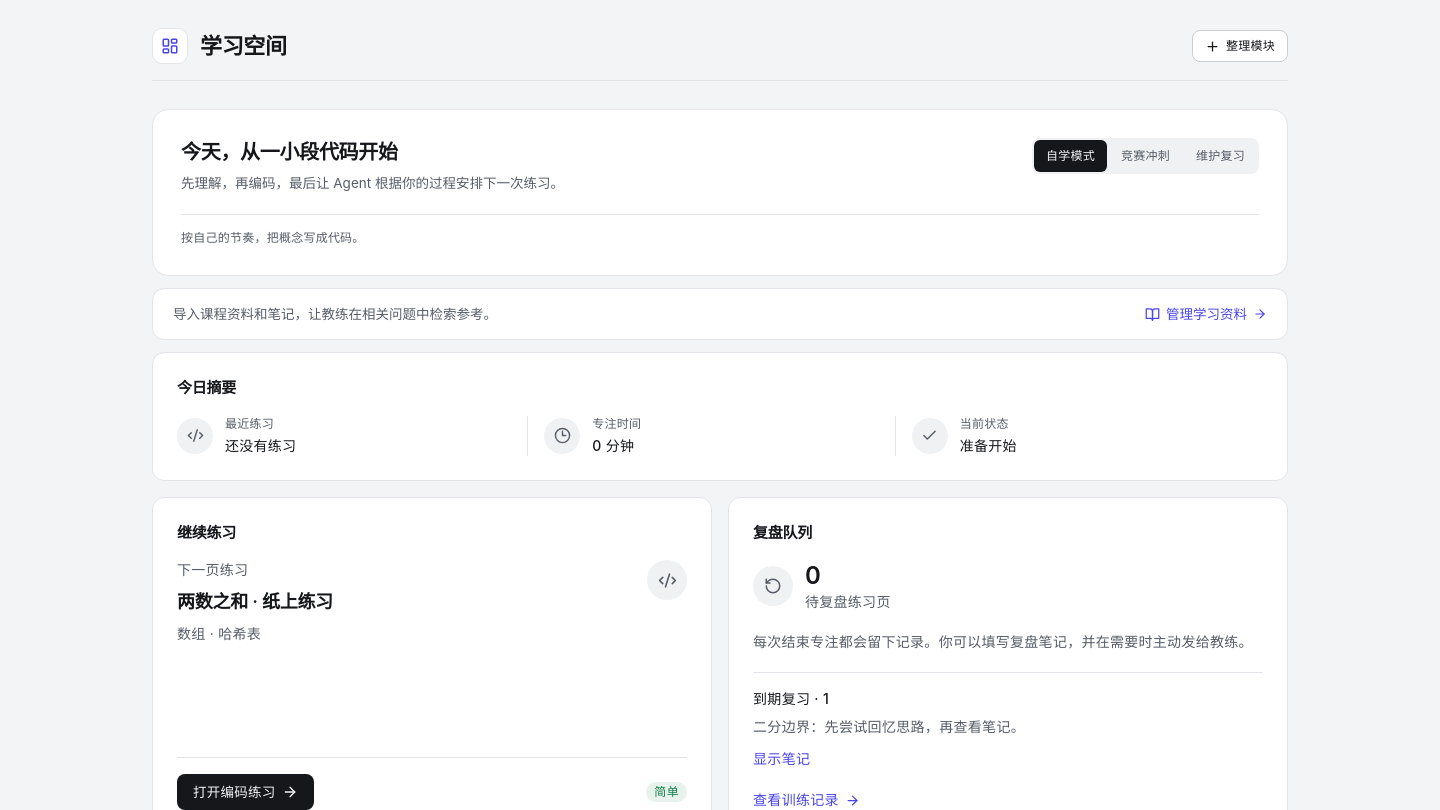
Test: rates a due review through the shared self-assessment labels
Click the button "显示笔记": (782, 759) [753,749,810,769]
(page scrolled)
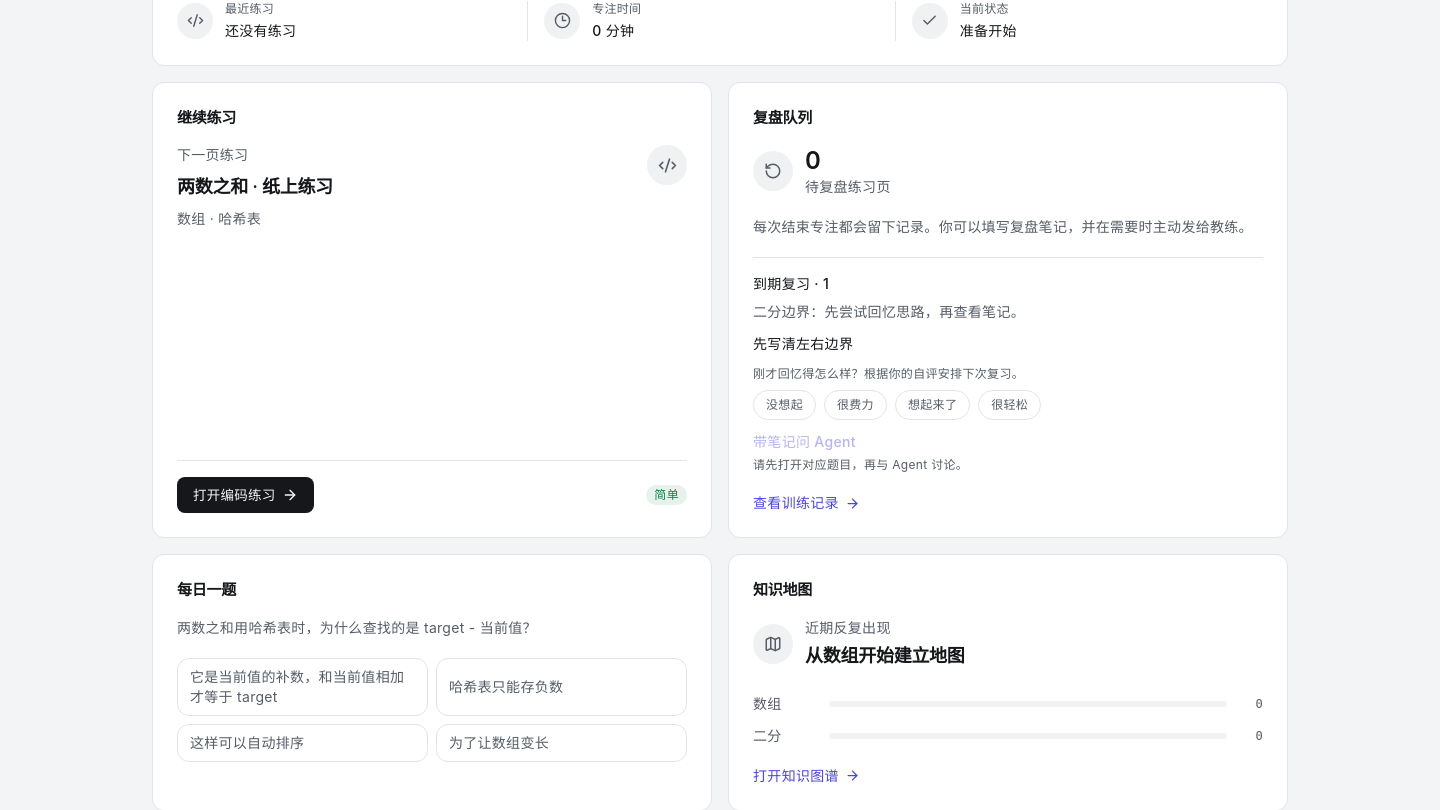
Now the button "没想起" is shown, box [753,390,816,420]
Now the button "很费力" is shown, box [824,390,887,420]
Now the button "想起来了" is shown
Click the button "想起来了": (933, 405) [895,390,970,420]
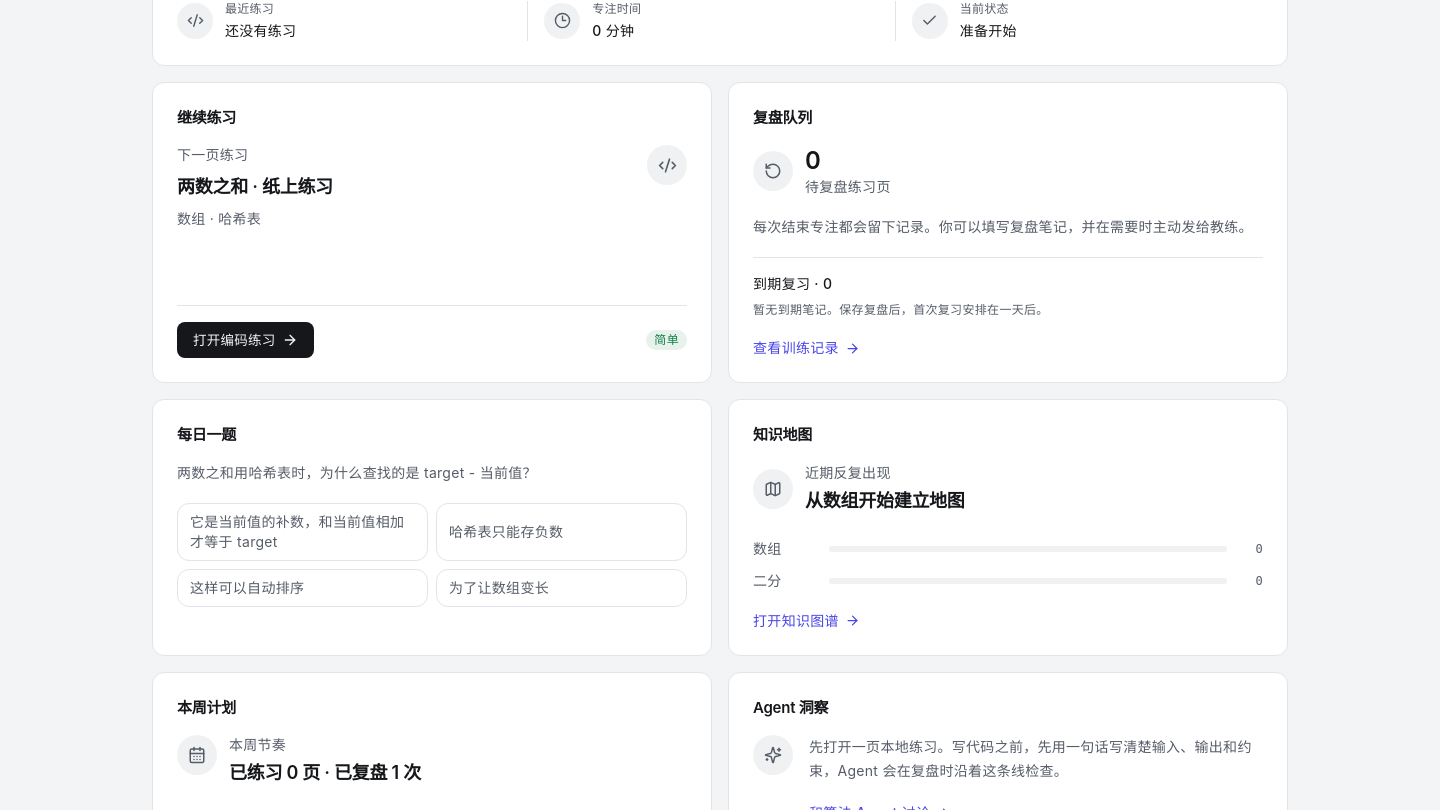
Now the text "到期复习 · 0" is shown, box [753,275,832,292]
